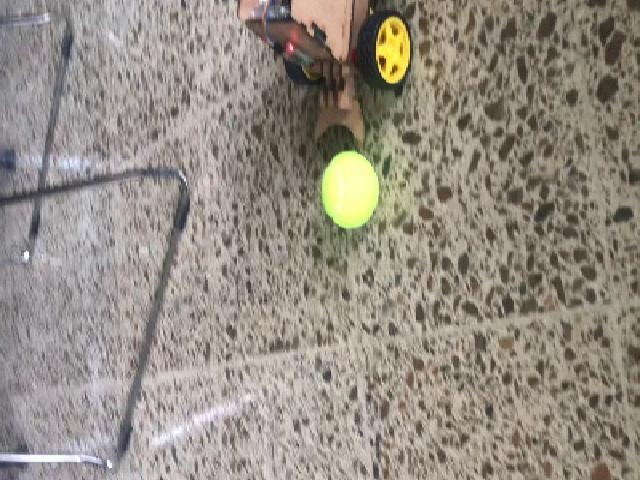Ball: (317, 152, 381, 228)
Robot: (227, 5, 416, 150)
